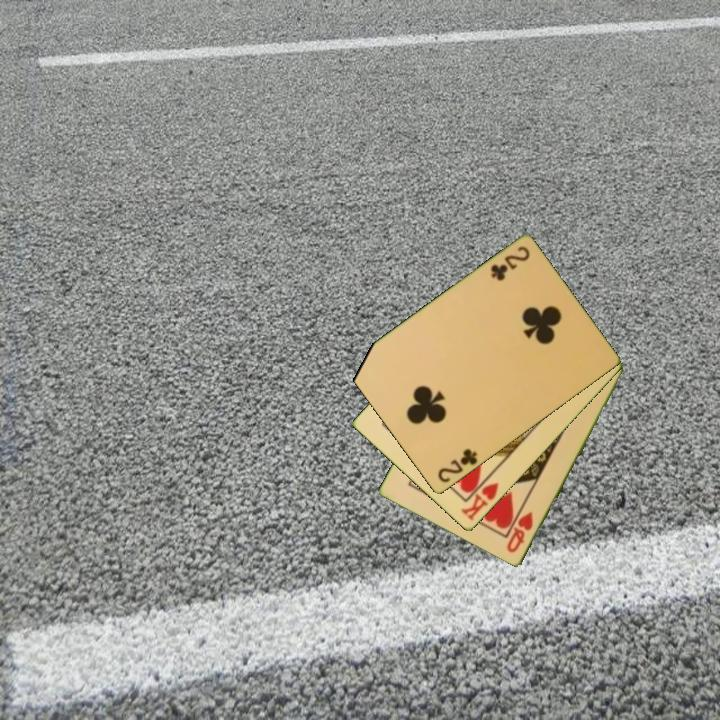2c: (434, 445, 480, 486), (487, 243, 533, 284)
Kh: (457, 471, 502, 524)
Qh: (503, 508, 536, 556)
